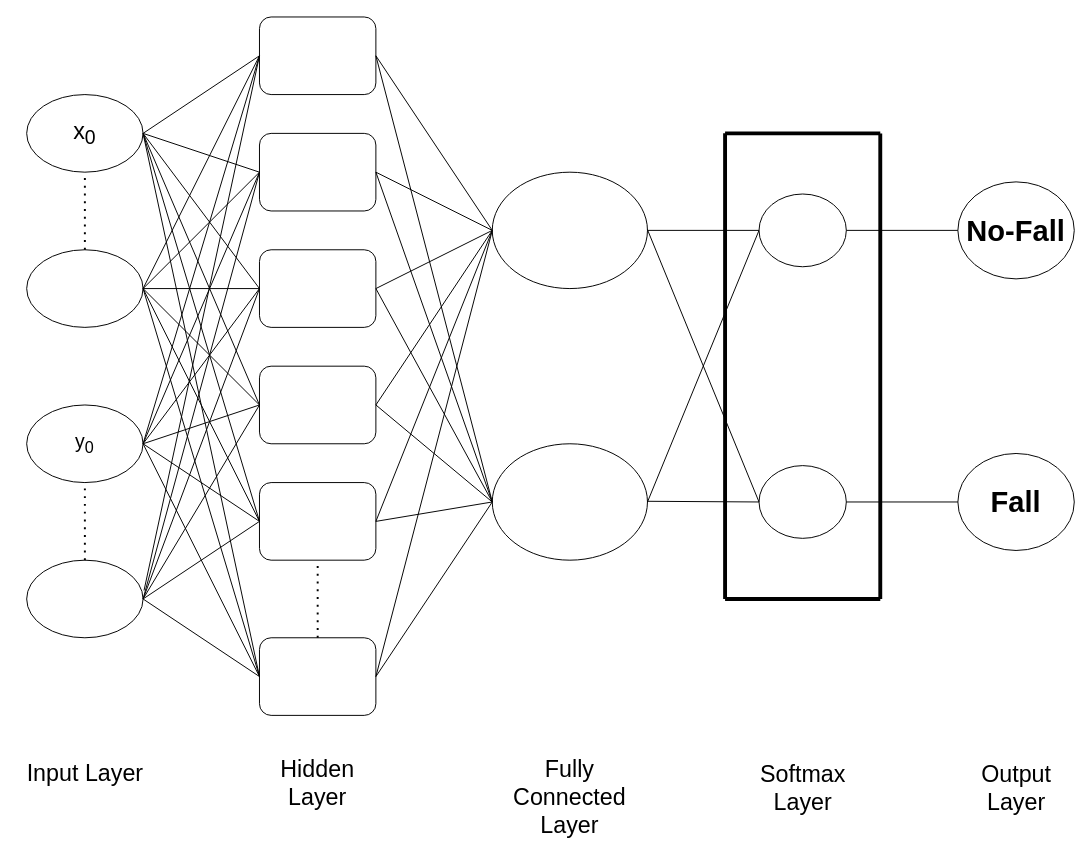
The diagram is 1091 pixels wide and 858 high, and some of its shapes have lost their labels. The centre of each missing label's shape, as x and y in pixels:
"x 13" goes at (84,288).
"y 13" goes at (84,598).
